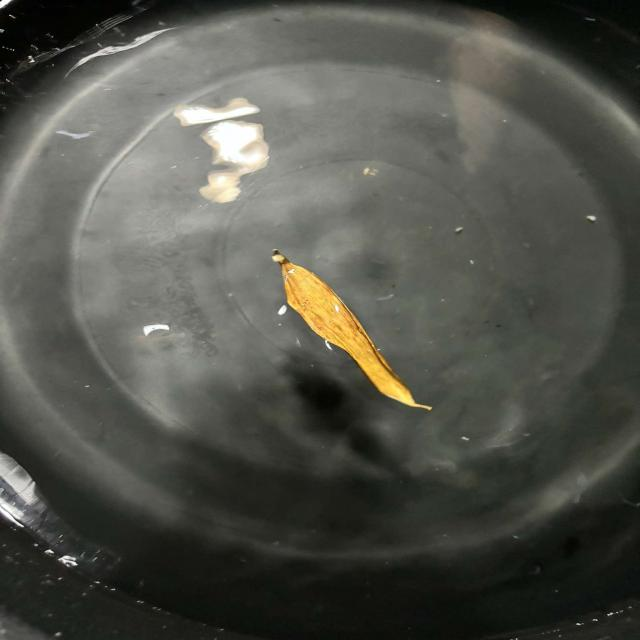Leaf: (254, 237, 449, 429)
